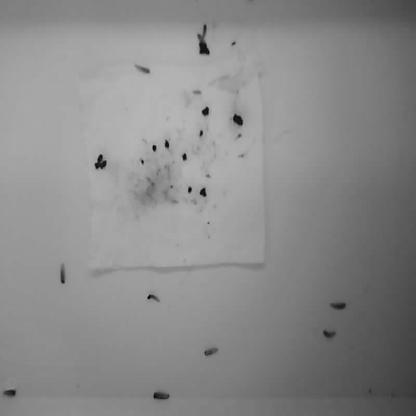PtecticusTenebrifer: (134, 61, 152, 75), (152, 390, 170, 400), (203, 347, 219, 358), (322, 328, 336, 340), (330, 301, 346, 311), (2, 389, 19, 398), (60, 261, 66, 284), (148, 293, 161, 303)
